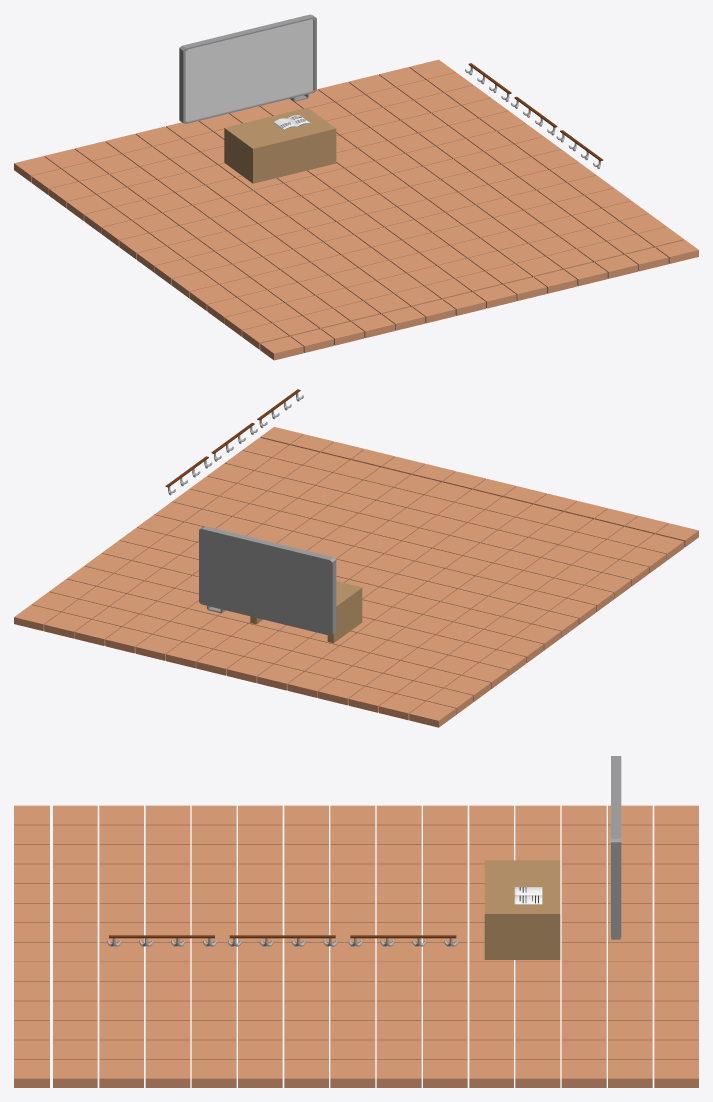
File: classroomenvironment.glb
3 views of the same model, one above another, from view 1: azimuth 30°, elevation 25°; view 2: azimuth 150°, elevation 25°; view 3: azimuth 270°, elevation 25° (orthographic). The views are drawn at different scales.
Visible parts, largest first — view 1: Plane, Cube.591, Cube.634, Cube.618, Cube.098, Cube.088, Cube.090, Cube.095, Cube.097, Cube.085, Cube.089, Cube.086 (+178 smaller); view 2: Plane, Cube.591, Cube.634, Cube.085, Cube.168, Cube.029, Cube.028, Cube.112, Cube.140, Cube.141, Cube.169, Cube.001 (+154 smaller); view 3: Cube.591, Cube.634, Plane, Cube.185, Cube.186, Cube.189, Cube.190, Cube.193, Cube.194, Cube.183, Cube.184, Cube.187 (+192 smaller).
Part boxes in pixels (left/top/right/bottom): Plane: left=179, top=14, right=316, bottom=123; Cube.591: left=224, top=107, right=336, bottom=183; Cube.634: left=465, top=63, right=603, bottom=168; Cube.618: left=260, top=336, right=303, bottom=360; Cube.098: left=242, top=323, right=288, bottom=349; Cube.088: left=66, top=194, right=113, bottom=220; Cube.090: left=101, top=220, right=147, bottom=246; Cube.095: left=189, top=284, right=235, bottom=310; Cube.097: left=224, top=310, right=270, bottom=336; Cube.085: left=14, top=156, right=60, bottom=182; Cube.089: left=84, top=207, right=130, bottom=233; Cube.086: left=31, top=169, right=77, bottom=195; Plane: left=199, top=526, right=336, bottom=635; Cube.591: left=250, top=581, right=362, bottom=643; Cube.634: left=165, top=389, right=303, bottom=495; Cube.085: left=409, top=701, right=455, bottom=727; Cube.168: left=74, top=619, right=121, bottom=645; Cube.029: left=287, top=671, right=334, bottom=697; Cube.028: left=257, top=664, right=303, bottom=690; Cube.112: left=196, top=649, right=242, bottom=675; Cube.140: left=135, top=634, right=181, bottom=660; Cube.141: left=105, top=627, right=151, bottom=653; Cube.169: left=44, top=612, right=90, bottom=638; Cube.001: left=227, top=657, right=273, bottom=682; Cube.591: left=484, top=860, right=560, bottom=959; Cube.634: left=107, top=935, right=457, bottom=946; Plane: left=611, top=756, right=621, bottom=937; Cube.185: left=145, top=1060, right=190, bottom=1087; Cube.186: left=191, top=1060, right=236, bottom=1087; Cube.189: left=330, top=1060, right=375, bottom=1087; Cube.190: left=376, top=1060, right=421, bottom=1087; Cube.193: left=515, top=1060, right=560, bottom=1087; Cube.194: left=561, top=1060, right=606, bottom=1087; Cube.183: left=53, top=1060, right=97, bottom=1087; Cube.184: left=99, top=1060, right=143, bottom=1087; Cube.187: left=238, top=1060, right=282, bottom=1087.
Size of the model in its own units: 13.56 by 3.42 by 14.38.
